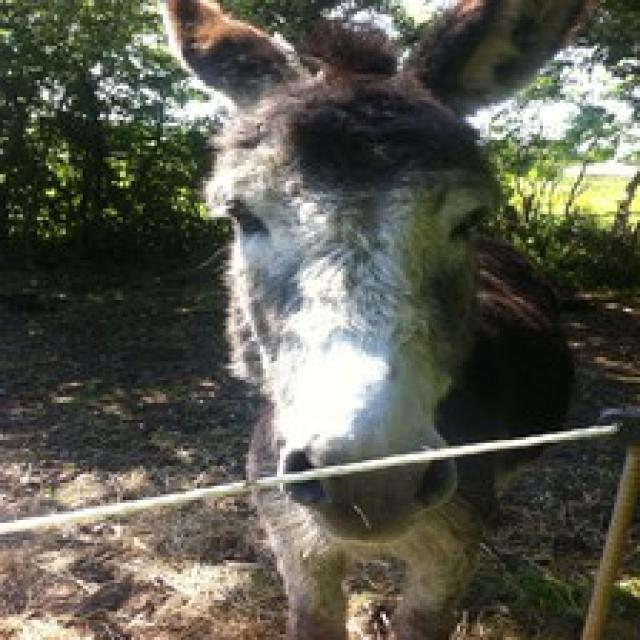Donkey: (128, 0, 620, 640)
